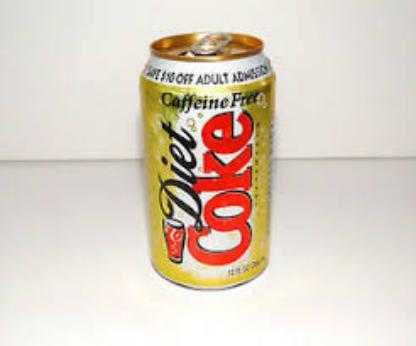Can: (139, 31, 272, 291)
